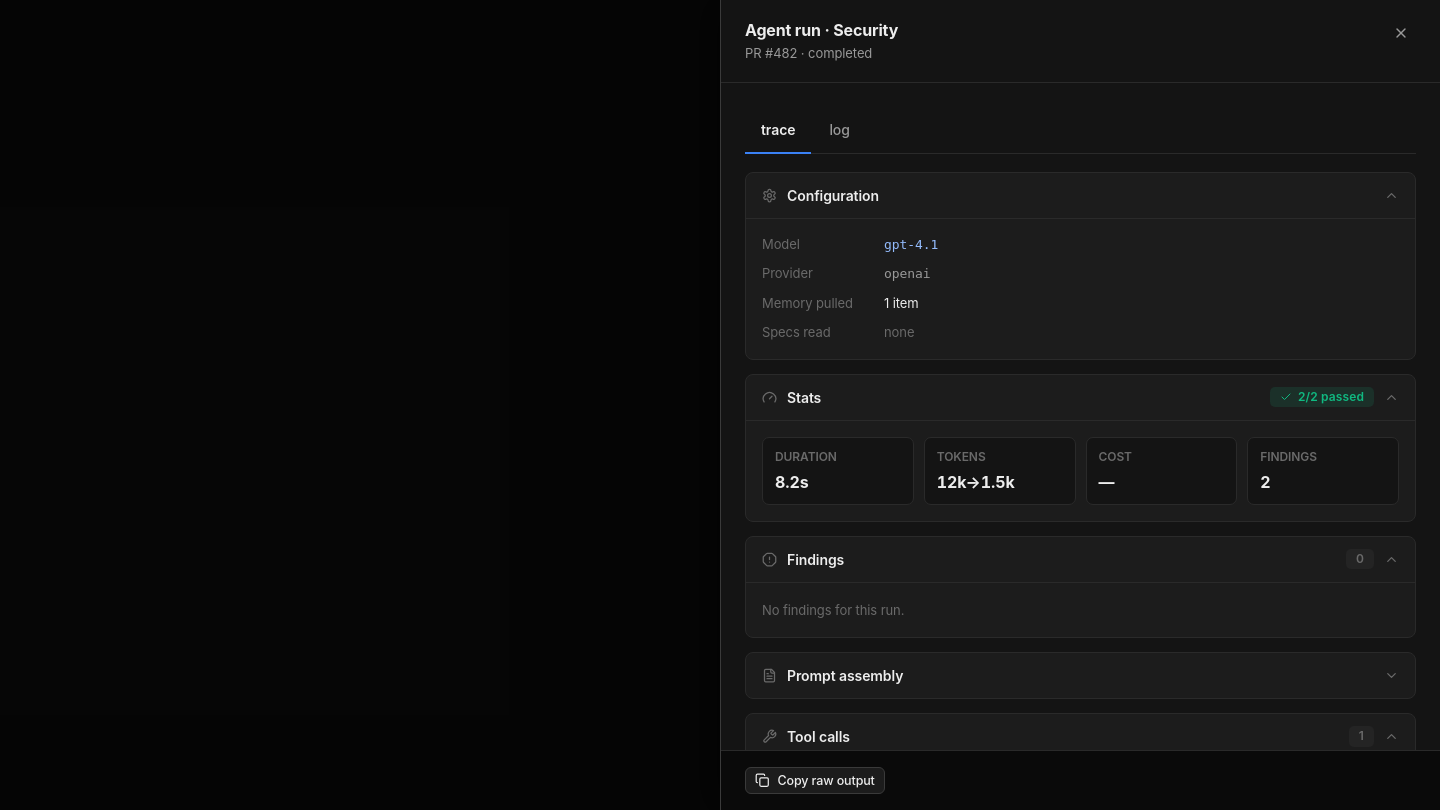
A5 Run Trace drawer (smoke) › AC-31: labels the attached-specs prompt-assembly slot as untrusted
The image size is (1440, 810).
Note: Prompt assembly section is collapsed by default — open it first.
Click the text "Prompt assembly": (845, 676) [787,667,903,684]
(page scrolled)
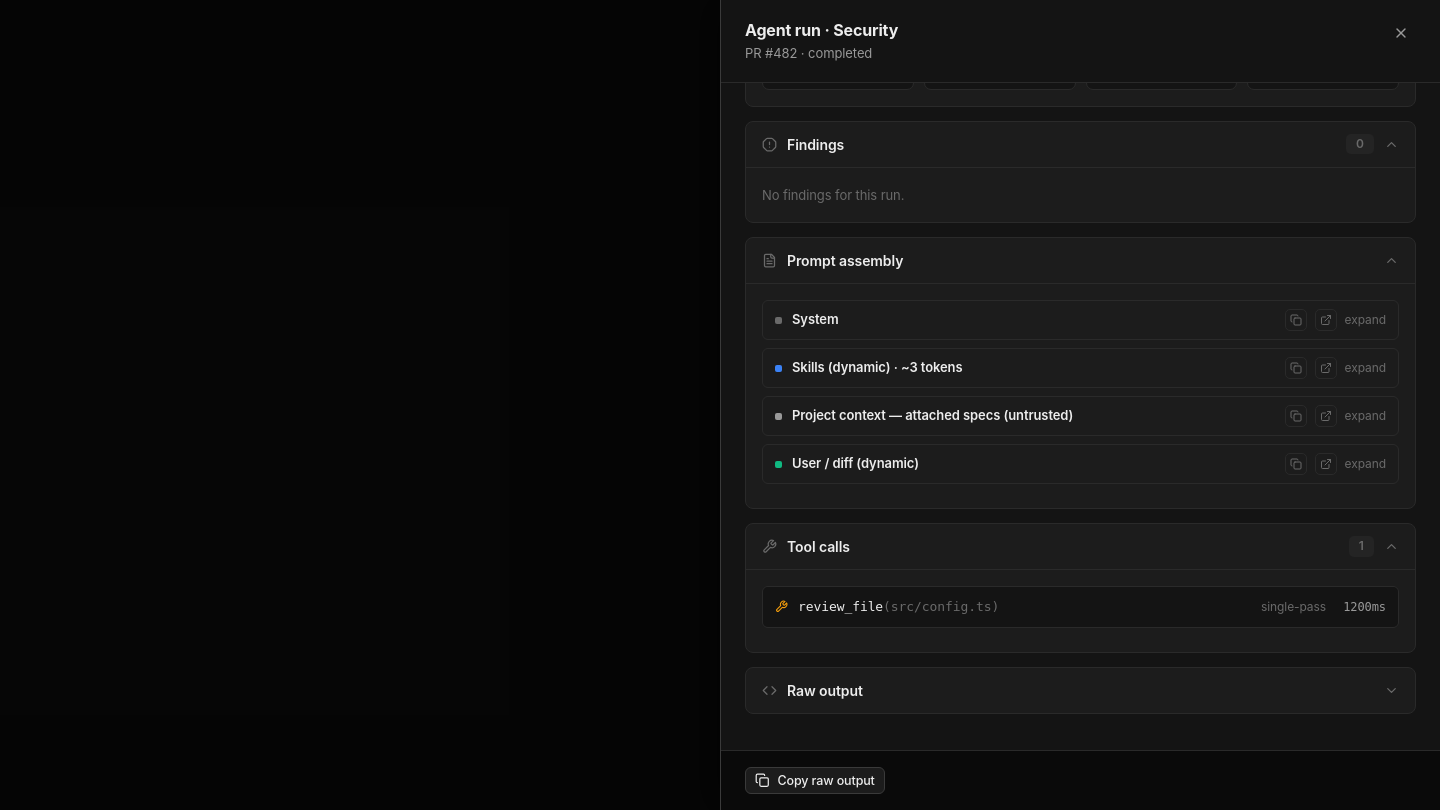
expect the text "Project context — attached specs (untrusted)" is shown: met, box [792,406,1073,426]
